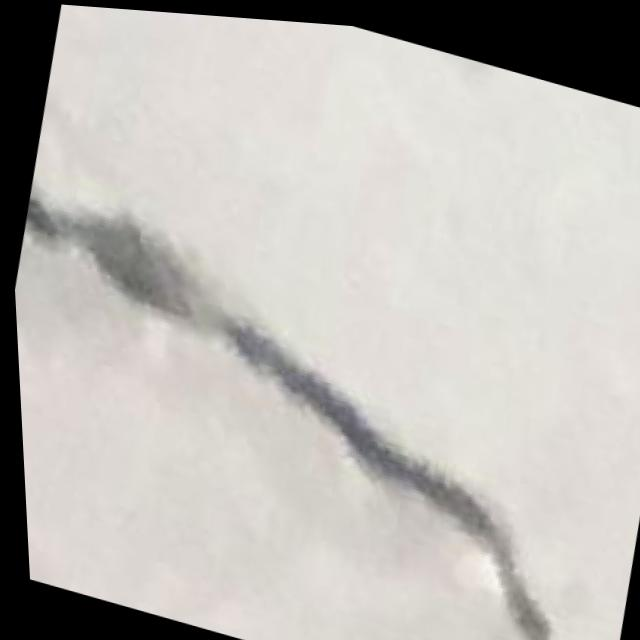Crack: (7, 174, 640, 640)
